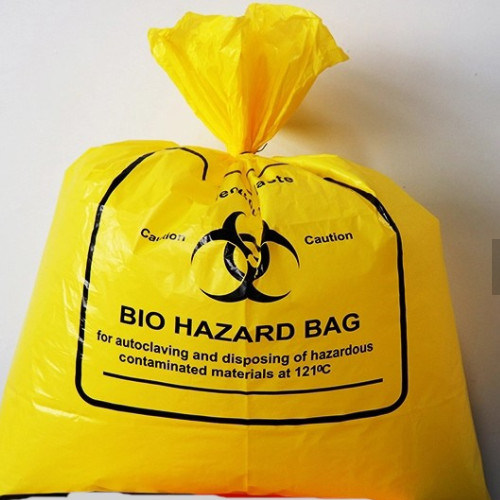plastic_bagwdw: (3, 7, 499, 497)
